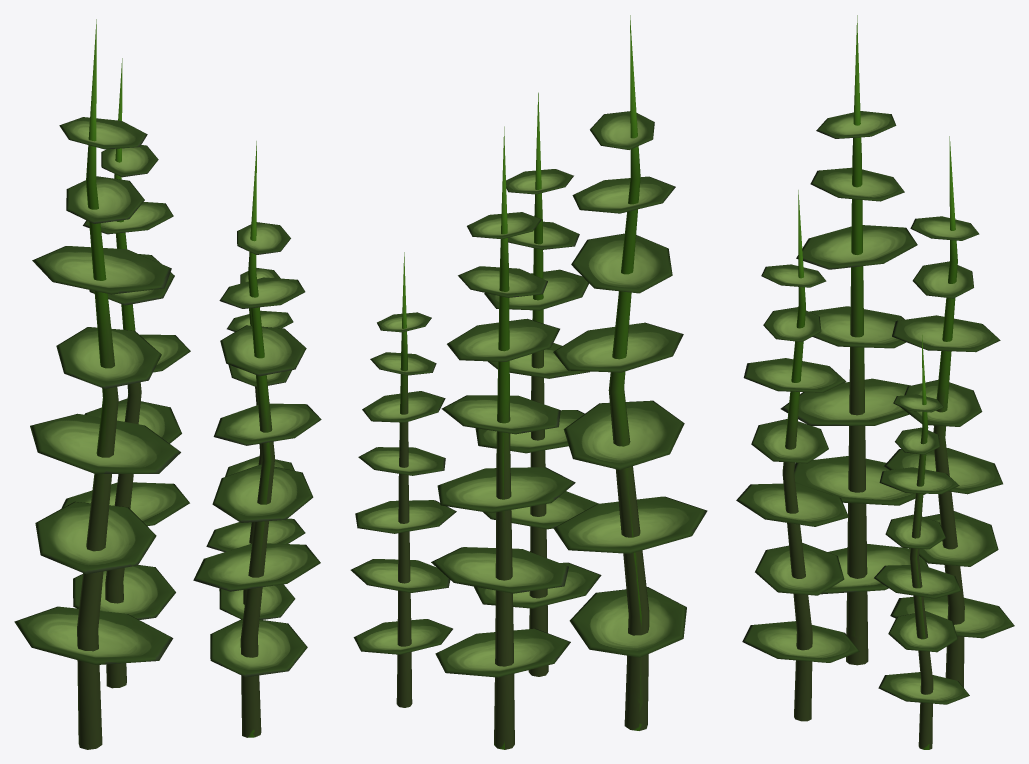
File: Vines2_green.obj
3 views of the same model, side by side, from view 1: azimuth 30°, elevation 25°; view 2: azimuth 150°, elevation 25°; view 3: azimuth 270°, elevation 25° (orthographic). The views are drawn at different scales.
Visible parts, largest first — view 1: group2_sweep1_initialShadingGroup; view 2: group2_sweep1_initialShadingGroup; view 3: group2_sweep1_initialShadingGroup.
Part boxes in pixels (left/top/right/bottom): group2_sweep1_initialShadingGroup: left=14, top=19, right=321, bottom=749; group2_sweep1_initialShadingGroup: left=350, top=15, right=707, bottom=749; group2_sweep1_initialShadingGroup: left=736, top=15, right=1014, bottom=749.
Bounding box in the file's own units: 1.54 × 3.55 × 1.38.
1 material, 1 textured.
